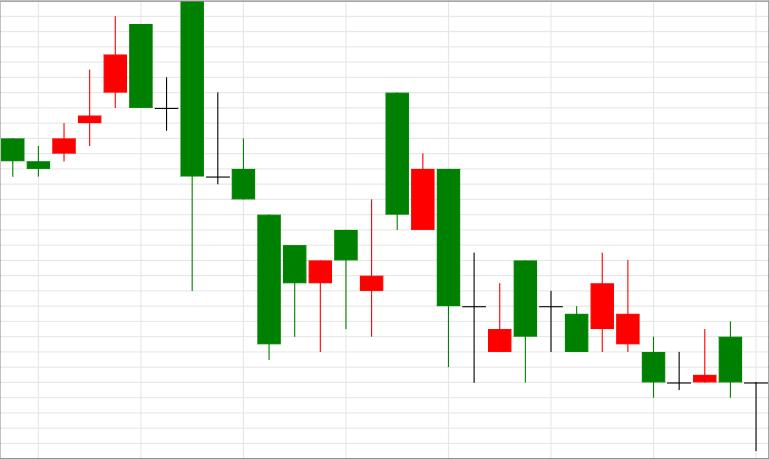hammer_rise: (181, 1, 306, 360)
inverse_hammer_rise: (385, 92, 512, 382)
